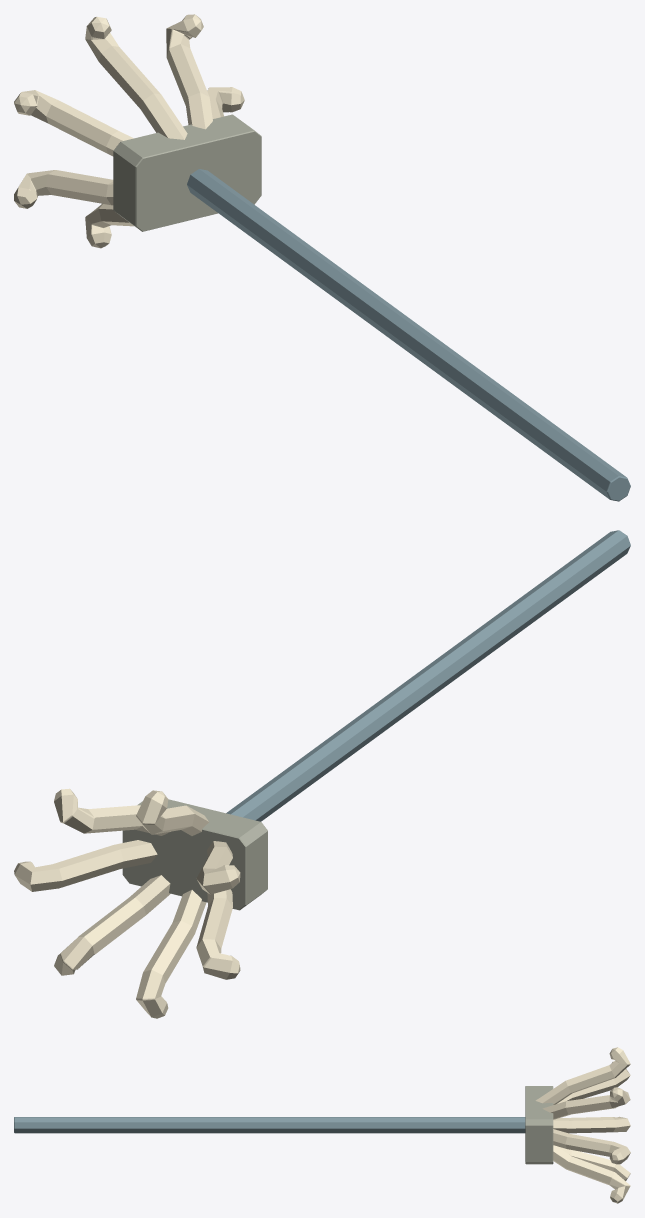
File: mop.glb
The picture shows the model from 3 angles, top to bottom: view 1: azimuth 30°, elevation 25°; view 2: azimuth 150°, elevation 25°; view 3: azimuth 270°, elevation 25°; orthographic projection. The views are drawn at different scales.
Visible parts, largest first — view 1: mop; view 2: mop; view 3: mop.
Part boxes in pixels (box(x1,y1,x2,y2)): mop: box(14, 14, 630, 501); mop: box(14, 530, 630, 1018); mop: box(14, 1047, 630, 1203).
Size of the model in its own units: 0.1029 by 0.0995 by 0.3964.
